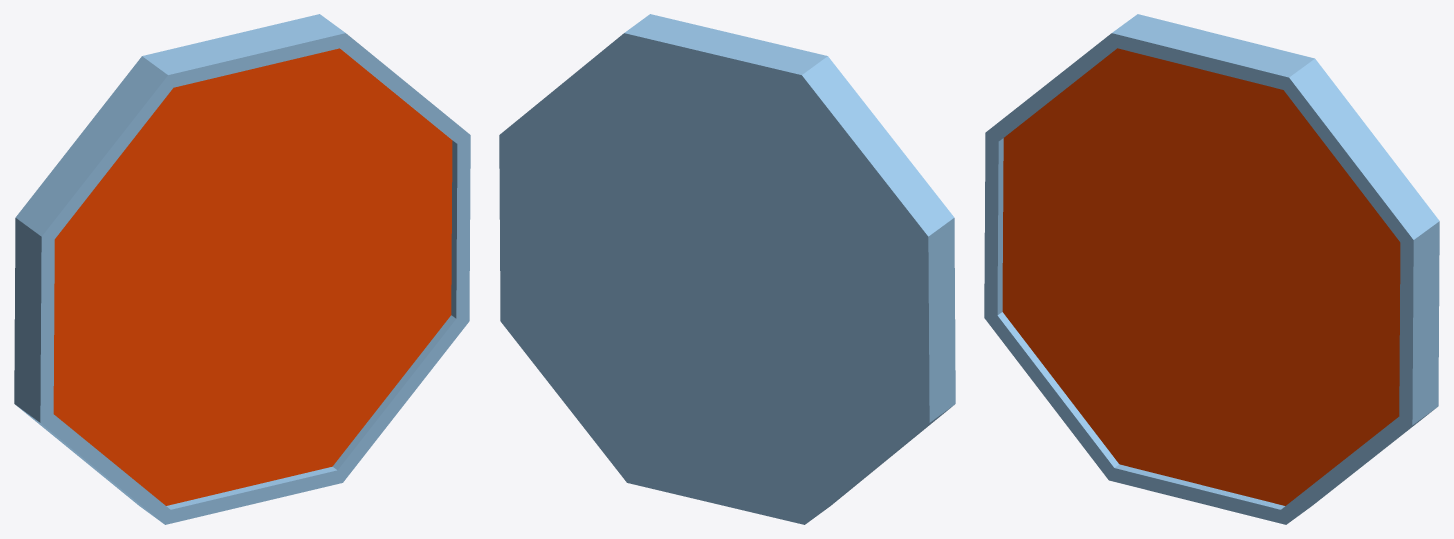
Rendered from Mirror_05.fbx.
3 views of the same model, side by side, from view 1: azimuth 30°, elevation 25°; view 2: azimuth 150°, elevation 25°; view 3: azimuth 330°, elevation 25° (orthographic).
Parts seen in each view (by area): view 1: Mirror_05; view 2: Mirror_05; view 3: Mirror_05.
Part boxes in pixels (bbox=[...]): Mirror_05: bbox=[14, 14, 470, 524]; Mirror_05: bbox=[499, 14, 955, 524]; Mirror_05: bbox=[984, 14, 1439, 524].
Bounding box in the file's own units: 63.37 × 63.37 × 6.66.
